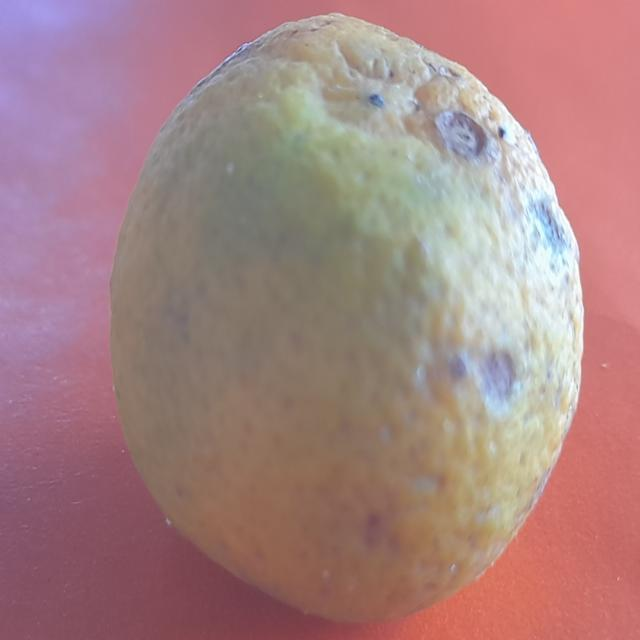black spot: (110, 13, 592, 618)
